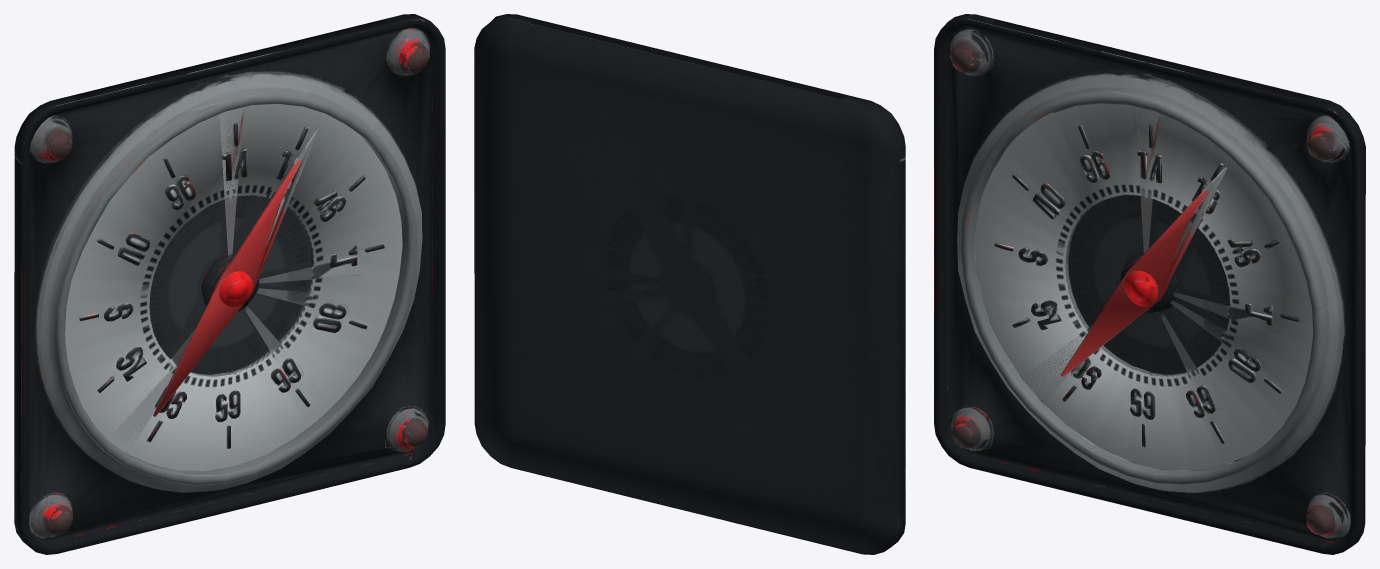
File: compass-orient.glb
3 views of the same model, side by side, from view 1: azimuth 30°, elevation 25°; view 2: azimuth 150°, elevation 25°; view 3: azimuth 330°, elevation 25° (orthographic).
Bounding box in the file's own units: 0.9429 × 0.9526 × 0.0533.
Materials: 1 (1 with a texture image).
